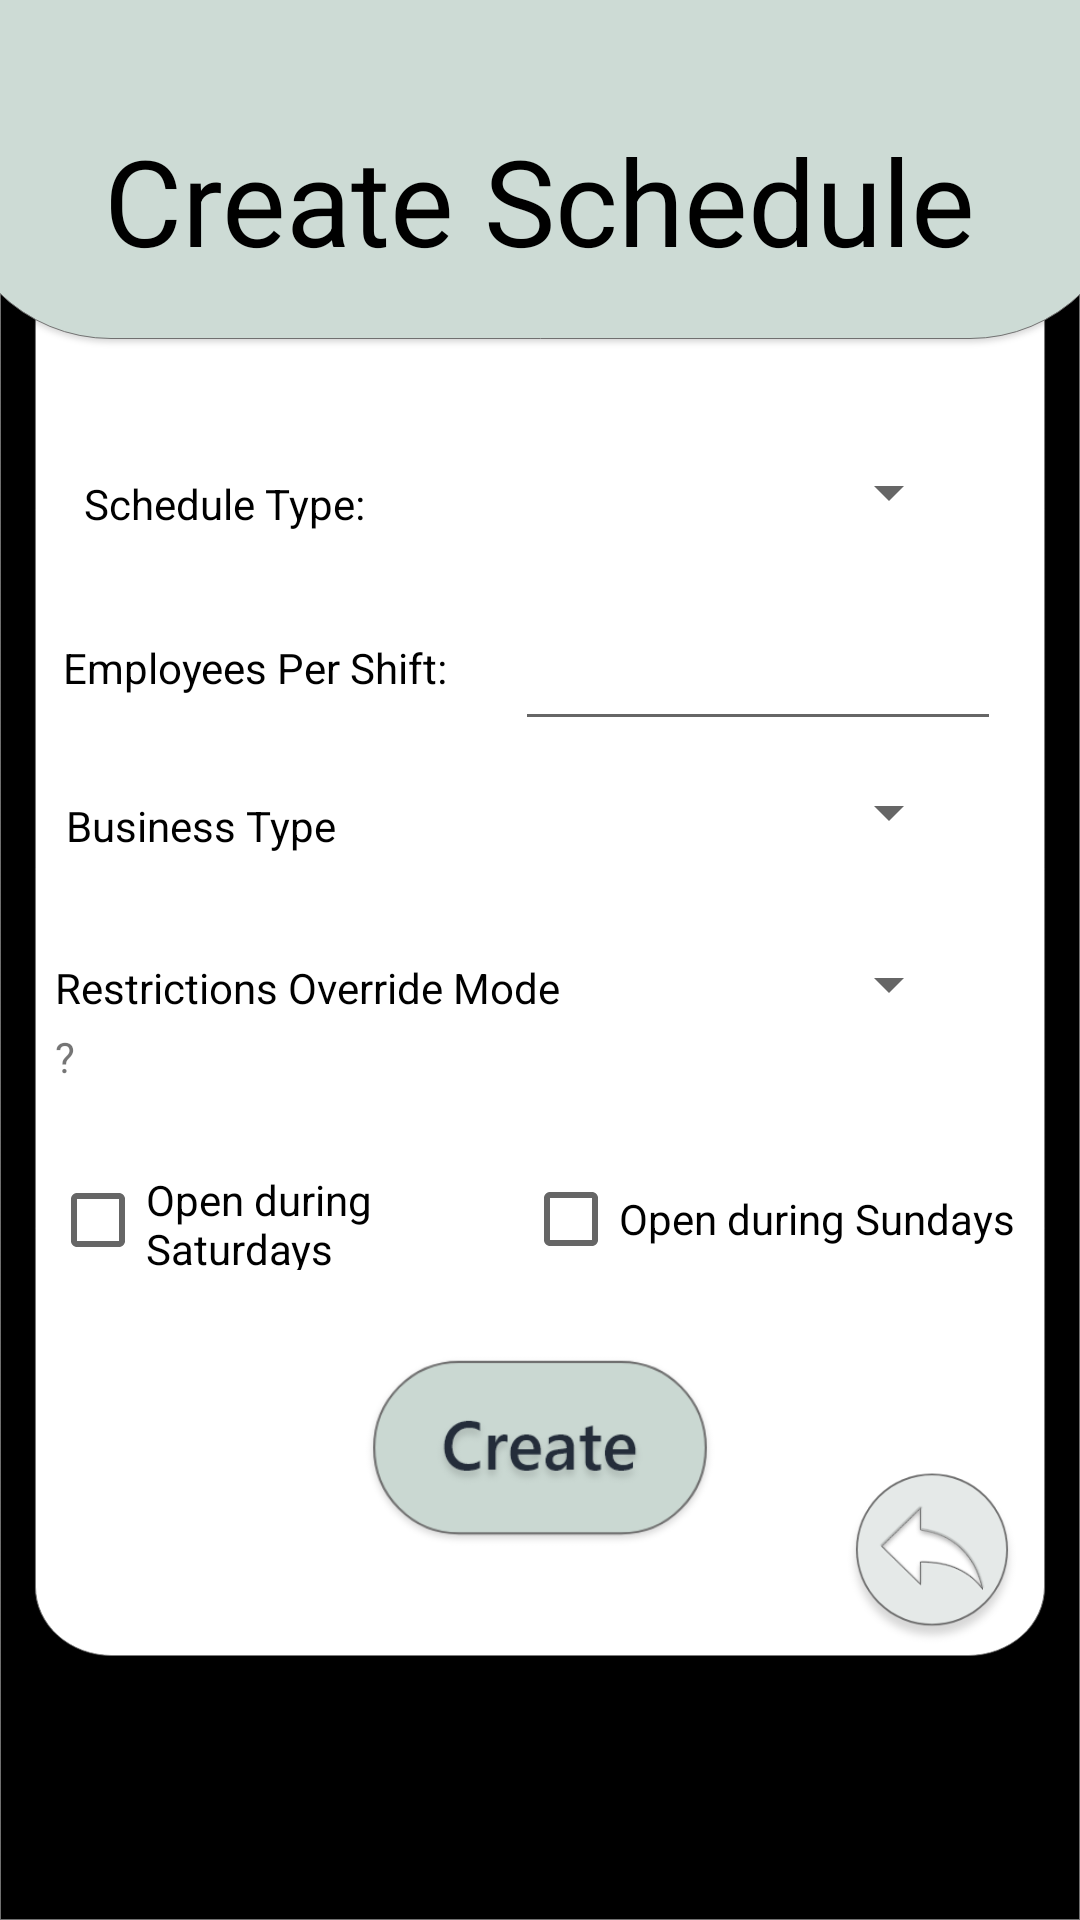

Where icons sit on this 1080x1920 app screen, as bbox(x1, y1, x2, y2):
back: bbox(856, 1473, 1008, 1634)
